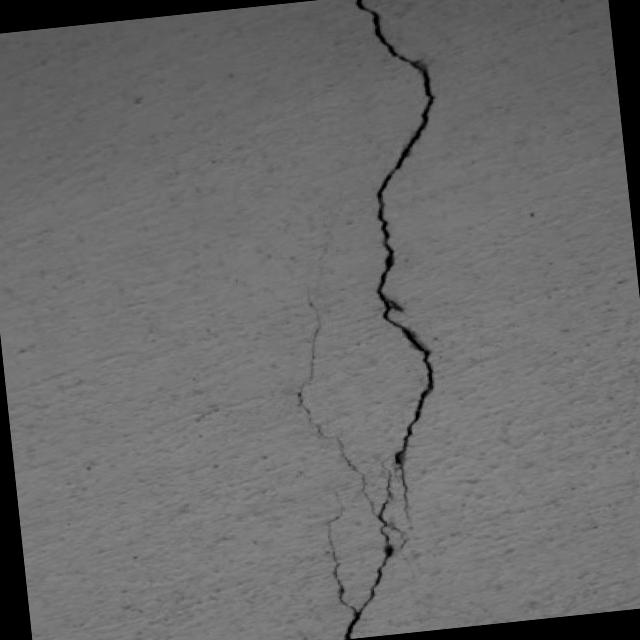crack: (248, 0, 498, 640)
